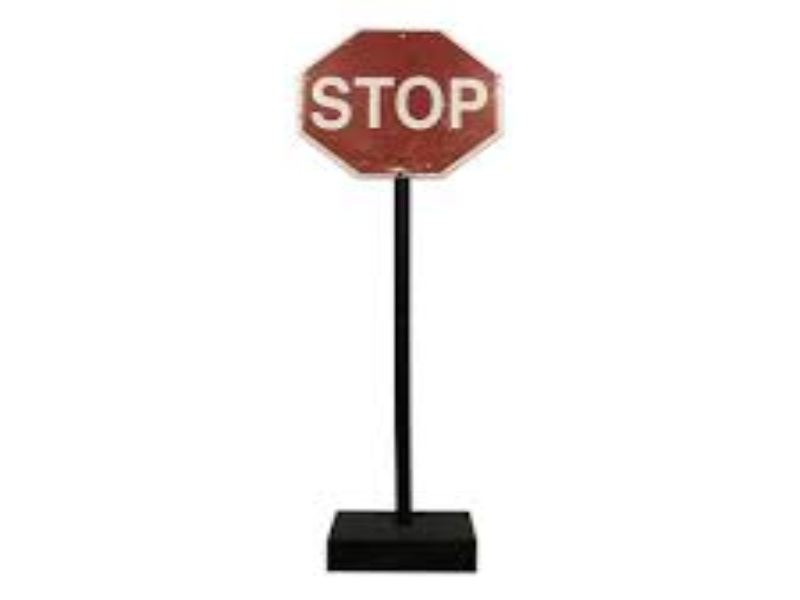Stop_Sign: (296, 27, 505, 178)
